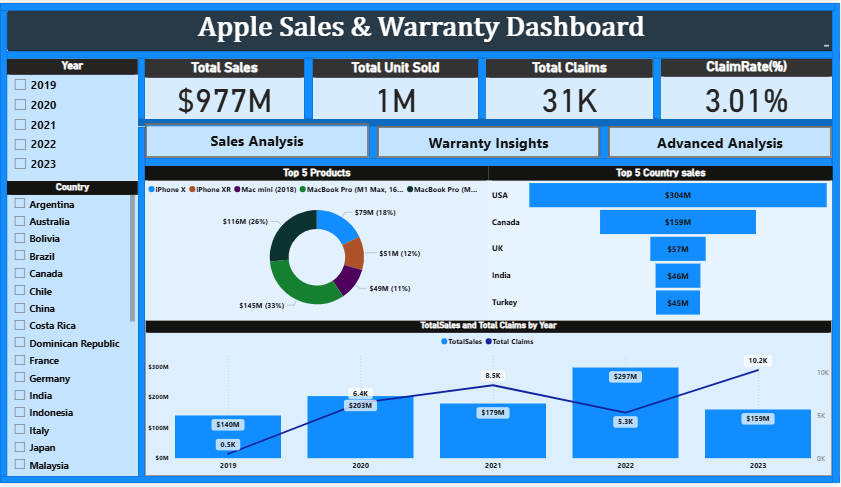

The dashboard page shown, as its layout file describes it:
{"tool":"powerbi","page":{"name":"Summary","canvas":[1400,800],"ordinal":0},"visuals":[{"type":"card","title":"Total Sales","fields":{"Values":["Sales.TotalSales"]},"box":[241.7,93.3,265,100],"z":0},{"type":"card","title":"Total Unit Sold","fields":{"Values":["Sales.TotalUnitsSold"]},"box":[521.7,93.3,275,100],"z":1000},{"type":"card","title":"Total Claims","fields":{"Values":["Warranty.Total Claims"]},"box":[810,93.3,278.3,100],"z":2000},{"type":"shape","box":[506.7,91.7,15,101.7],"z":3000},{"type":"textbox","title":"Apple Sales & Warranty Dashboard","box":[11.2,11.2,1378.3,69.1],"z":4000},{"type":"card","title":"ClaimRate(%)","fields":{"Values":["Warranty.ClaimRate(%)"]},"box":[1101.7,91.7,285,101.7],"z":5000},{"type":"shape","box":[1088.3,91.7,13.3,101.7],"z":6000},{"type":"shape","box":[796.7,91.7,13.3,101.7],"z":7000},{"type":"shape","box":[230,91.7,11.7,101.7],"z":8000},{"type":"shape","box":[11.5,81.7,1389.2,11.5],"z":9000},{"type":"shape","box":[0,788.5,1400.7,12],"z":10000},{"type":"shape","box":[1386.7,0,13.3,813.3],"z":11000},{"type":"shape","box":[8.8,80.3,1380,12],"z":12000},{"type":"shape","box":[0,0,1392,12.9],"z":13000},{"type":"shape","box":[0,11.2,12,777.5],"z":14000},{"type":"shape","box":[230,193.3,1156.7,12],"z":15000},{"type":"slicer","title":"Year","fields":{"Values":["Datetable.Year"]},"box":[11.7,93.3,218.3,203.3],"z":16000},{"type":"slicer","title":"Country","fields":{"Values":["Stores.Country"]},"box":[11.2,297.2,218.5,491.6],"z":17000},{"type":"shape","box":[230,206.7,11.7,583.3],"z":18000},{"type":"donutChart","title":"Top 5 Products","fields":{"Y":["Sales.TotalSales"],"Series":["Products.Product_name"]},"box":[241.4,271.4,572.9,257.1],"z":19000},{"type":"lineStackedColumnComboChart","fields":{"Category":["Datetable.Date.Variation.Date Hierarchy.Year","Datetable.Date.Variation.Date Hierarchy.Month"],"Y":["Sales.TotalSales"],"Y2":["Warranty.Total Claims"]},"box":[241.7,528.3,1145,260],"z":20000},{"type":"shape","box":[241.7,258.3,1145,13.3],"z":21000},{"type":"funnel","title":"Top 5 Country sales","fields":{"Category":["Stores.Country"],"Y":["Sales.TotalSales"]},"box":[814.3,271.4,572.9,257.1],"z":22000},{"type":"shape","box":[1000,205,13.3,53.3],"z":23000},{"type":"shape","box":[615,205,13.3,53.3],"z":24000},{"type":"actionButton","box":[241.7,200,373.3,58.3],"z":25000},{"type":"actionButton","box":[628.3,205,371.7,53.3],"z":26000},{"type":"actionButton","box":[1013.3,205,373.3,53.3],"z":27000}]}

Visuals, with their boxes in screenshot pixels (x1, y1, x2, y2), scaled from the page's 1400x800 canvas onto the 841x487 screenshot:
"Total Sales" card: 145, 57, 304, 118
"Total Unit Sold" card: 313, 57, 479, 118
"Total Claims" card: 487, 57, 654, 118
shape: 304, 56, 313, 118
"Apple Sales & Warranty Dashboard" textbox: 7, 7, 835, 49
"ClaimRate(%)" card: 662, 56, 833, 118
shape: 654, 56, 662, 118
shape: 479, 56, 487, 118
shape: 138, 56, 145, 118
shape: 7, 50, 840, 57
shape: 0, 480, 840, 486
shape: 833, 0, 840, 486
shape: 5, 49, 834, 56
shape: 0, 0, 836, 8
shape: 0, 7, 7, 480
shape: 138, 118, 833, 125
"Year" slicer: 7, 57, 138, 181
"Country" slicer: 7, 181, 138, 480
shape: 138, 126, 145, 481
"Top 5 Products" donutChart: 145, 165, 489, 322
lineStackedColumnComboChart - Datetable.Date.Variation.Date Hierarchy.Year x Datetable.Date.Variation.Date Hierarchy.Month: 145, 322, 833, 480
shape: 145, 157, 833, 165
"Top 5 Country sales" funnel: 489, 165, 833, 322
shape: 601, 125, 609, 157
shape: 369, 125, 377, 157
actionButton: 145, 122, 369, 157
actionButton: 377, 125, 601, 157
actionButton: 609, 125, 833, 157
